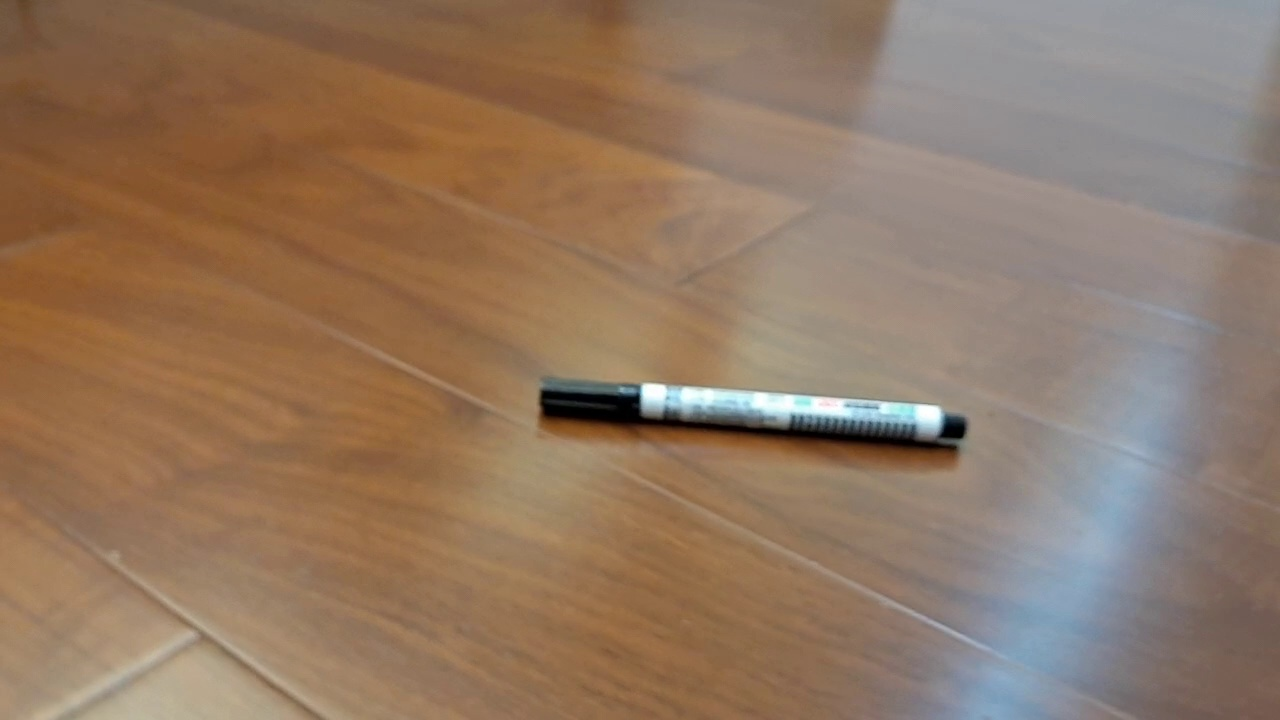pen: (538, 376, 966, 443)
